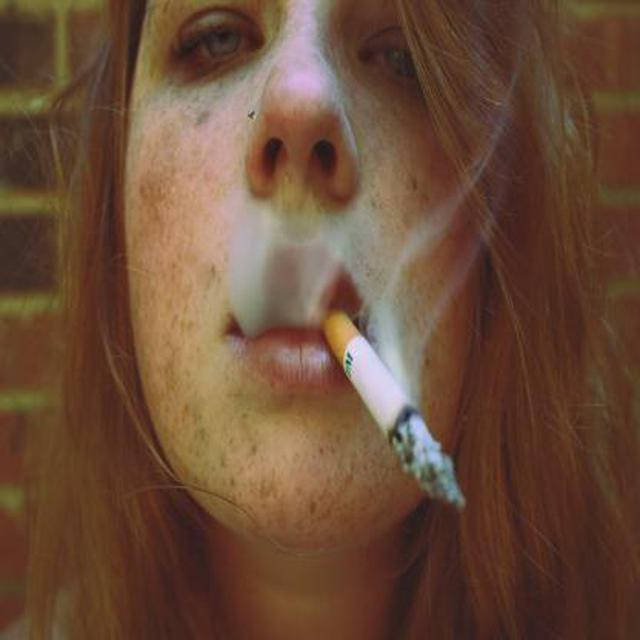smoking: (314, 298, 467, 508)
